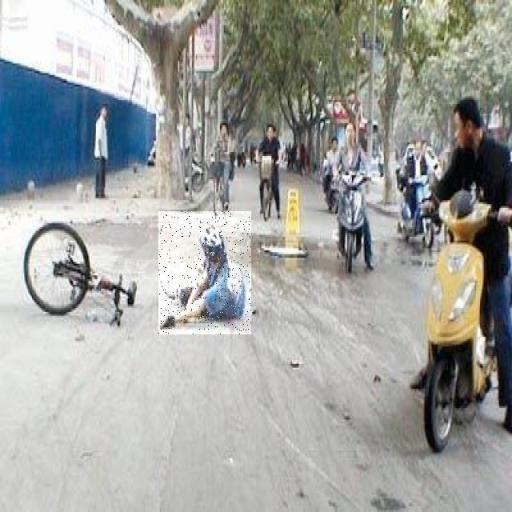Fall: (159, 212, 252, 335)
